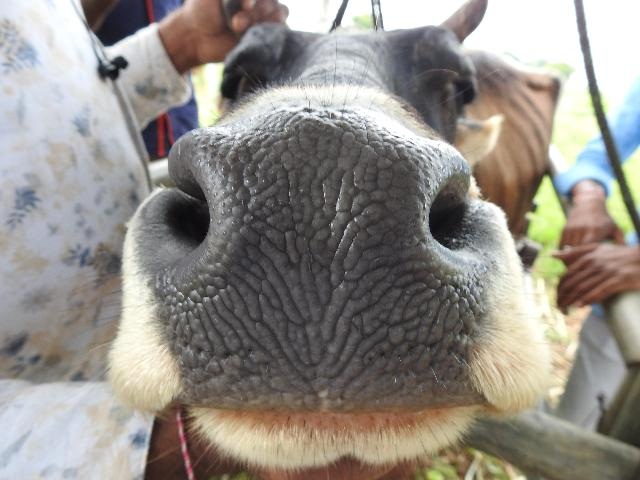Muzzle: (212, 124, 430, 384)
